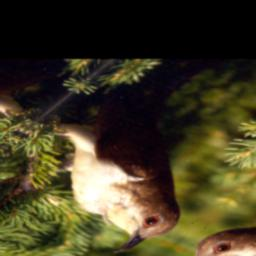Cuckoo: (0, 71, 256, 256)
